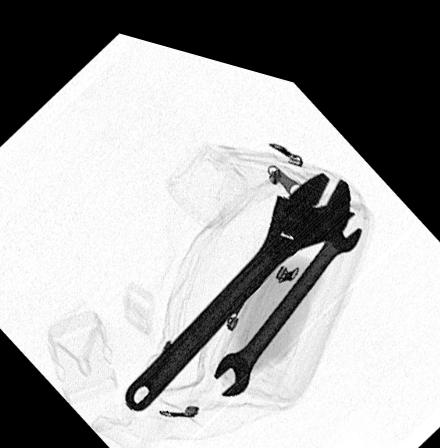Wrench: (122, 153, 350, 403), (213, 192, 362, 383)
